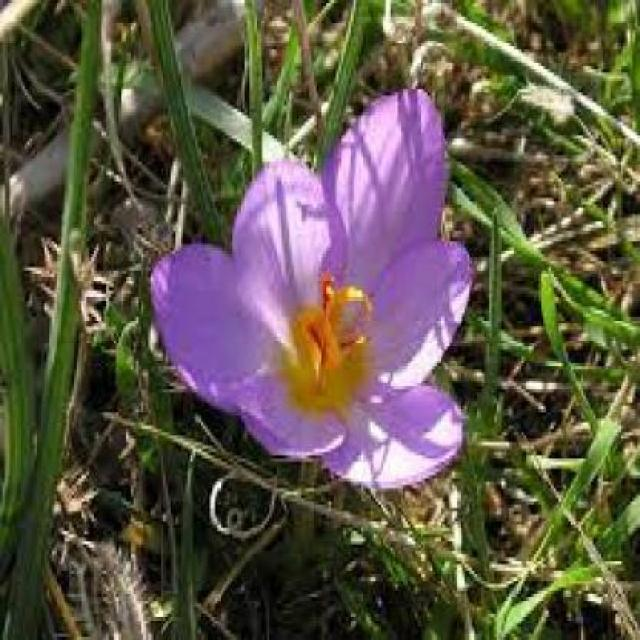saffron open: (152, 111, 472, 484)
